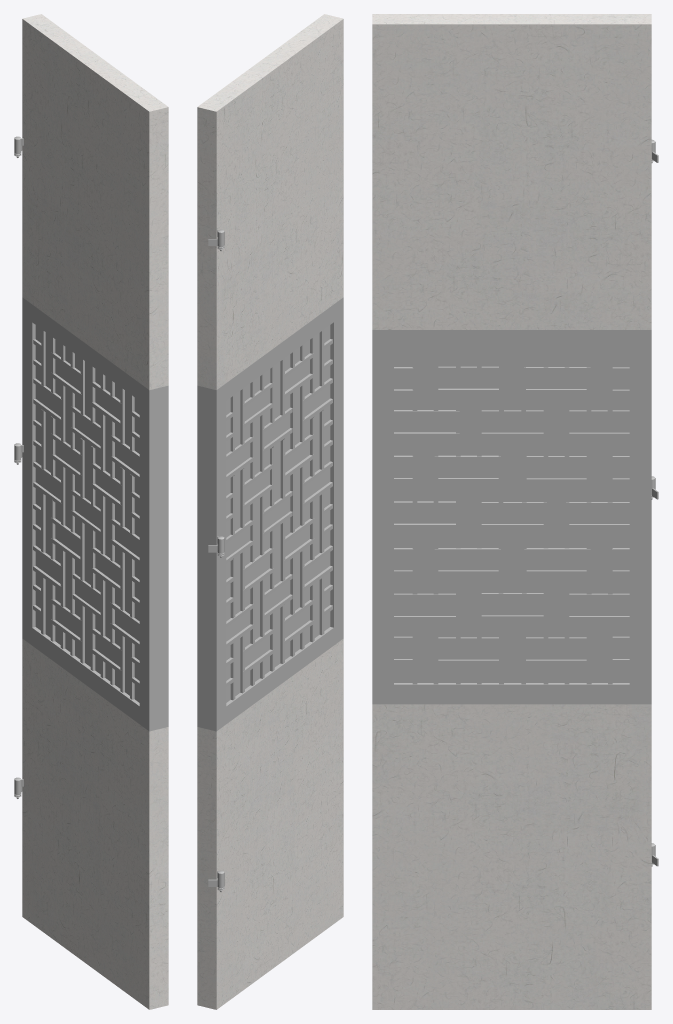
The model's file is SM_Door07H.fbx.
3 renders of one model, left to right at view 1: azimuth 30°, elevation 25°; view 2: azimuth 150°, elevation 25°; view 3: azimuth 270°, elevation 25°, orthographic. The views are drawn at different scales.
Visible parts, largest first — view 1: SM_Door07H; view 2: SM_Door07H; view 3: SM_Door07H.
Part boxes in pixels (x1,y1,x2,y2): SM_Door07H: (14,14,168,1009); SM_Door07H: (197,14,343,1009); SM_Door07H: (372,14,658,1009).
Bounding box in the file's own units: 7.49 × 62.84 × 239.
